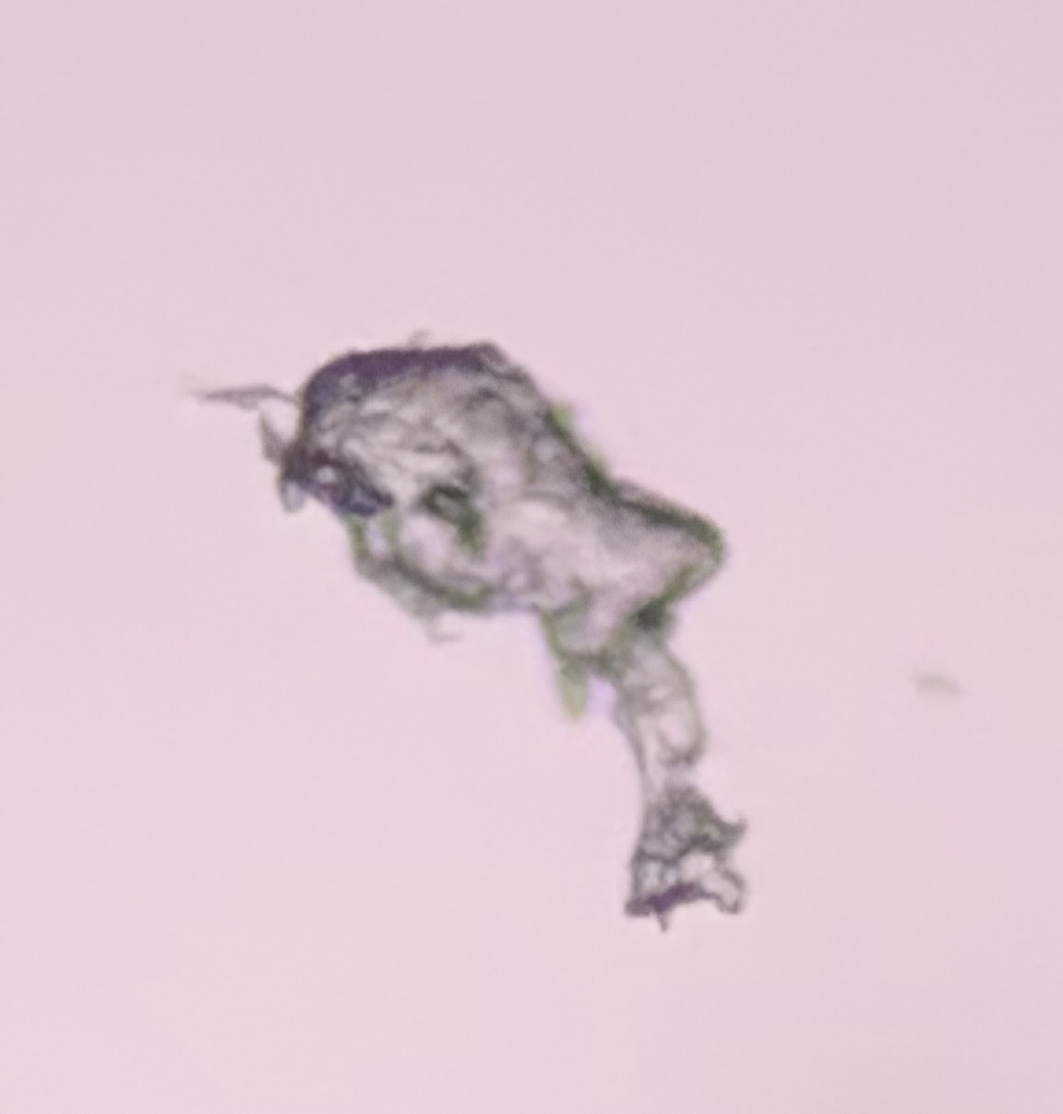microplastic: (187, 328, 758, 933)
